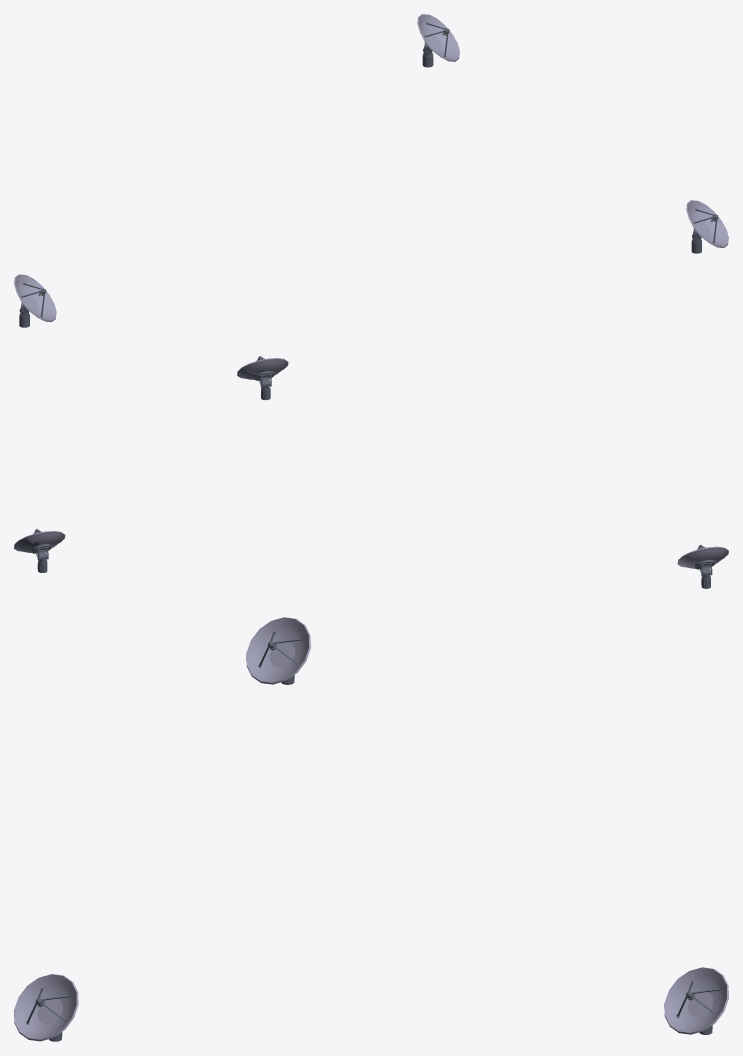
The model's file is antena.fbx.
The picture shows the model from 3 angles, top to bottom: view 1: azimuth 30°, elevation 25°; view 2: azimuth 150°, elevation 25°; view 3: azimuth 270°, elevation 25°; orthographic projection. The views are drawn at different scales.
Visible parts, largest first — view 1: radio_dish.001; view 2: radio_dish.001; view 3: radio_dish.001.
Boxes of the visible parts, <box> form: radio_dish.001: <box>14,14,728,327</box>; radio_dish.001: <box>14,356,728,588</box>; radio_dish.001: <box>14,617,728,1041</box>.
Size of the model in its own units: 452 by 32.79 by 356.
